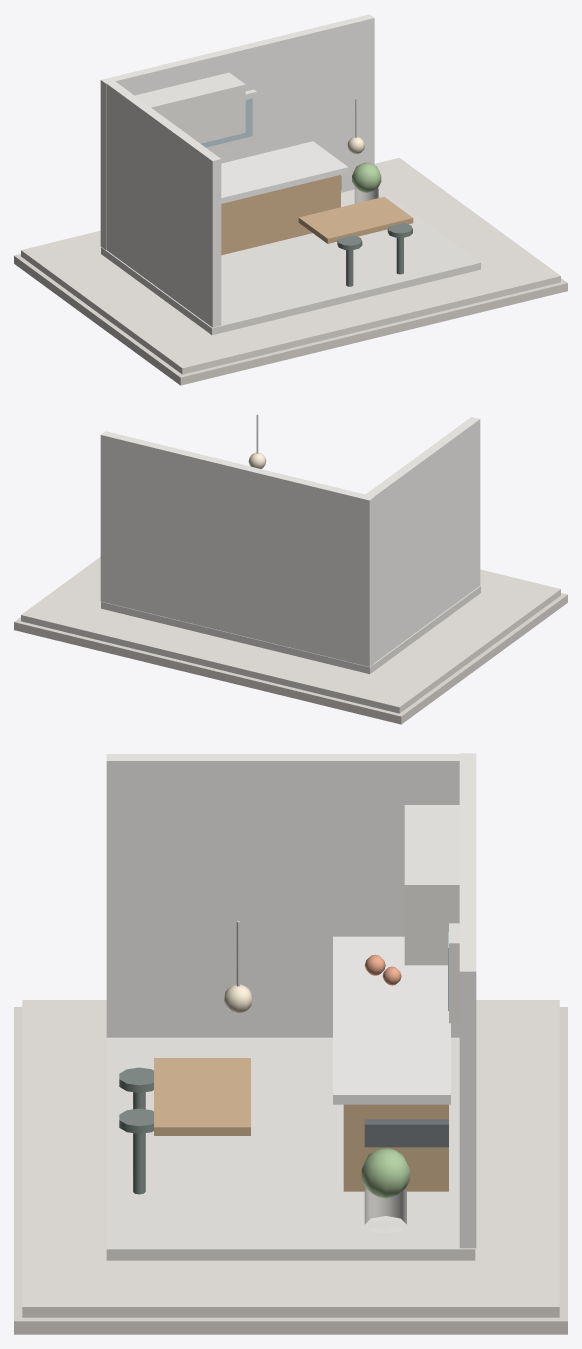
File: cozinha.glb
3 views of the same model, one above another, from view 1: azimuth 30°, elevation 25°; view 2: azimuth 150°, elevation 25°; view 3: azimuth 270°, elevation 25° (orthographic). The views are drawn at different scales.
Size of the model in its own units: 3.53 by 1.65 by 2.63.
